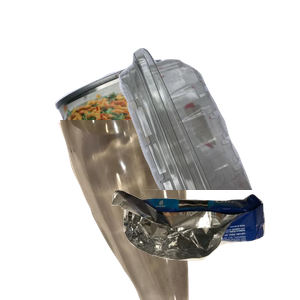glass: (56, 120, 241, 300)
metal: (52, 57, 260, 237)
plastic: (71, 45, 300, 225)
trash: (109, 187, 300, 300)
